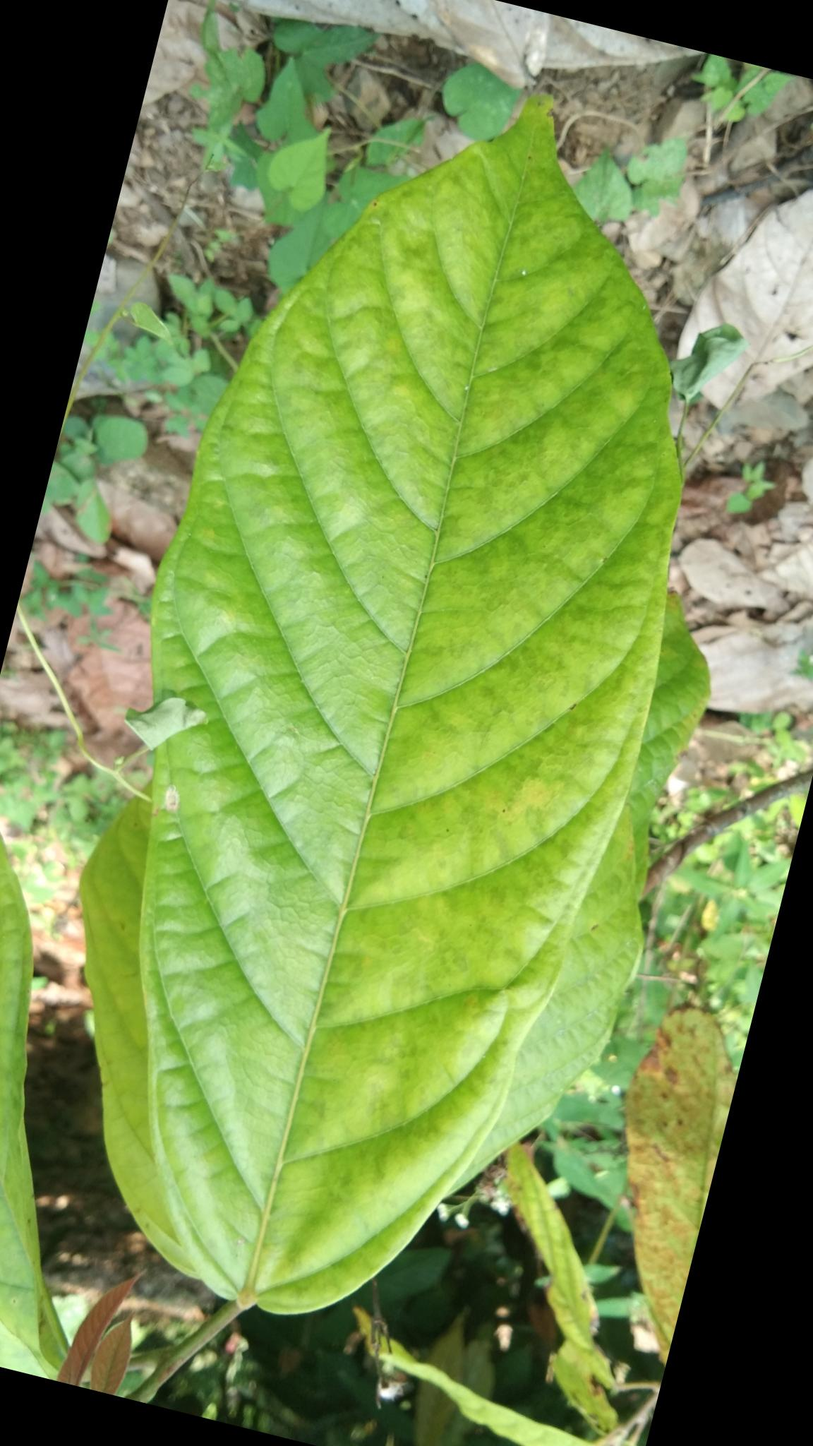Fosforo: (113, 108, 649, 1321)
